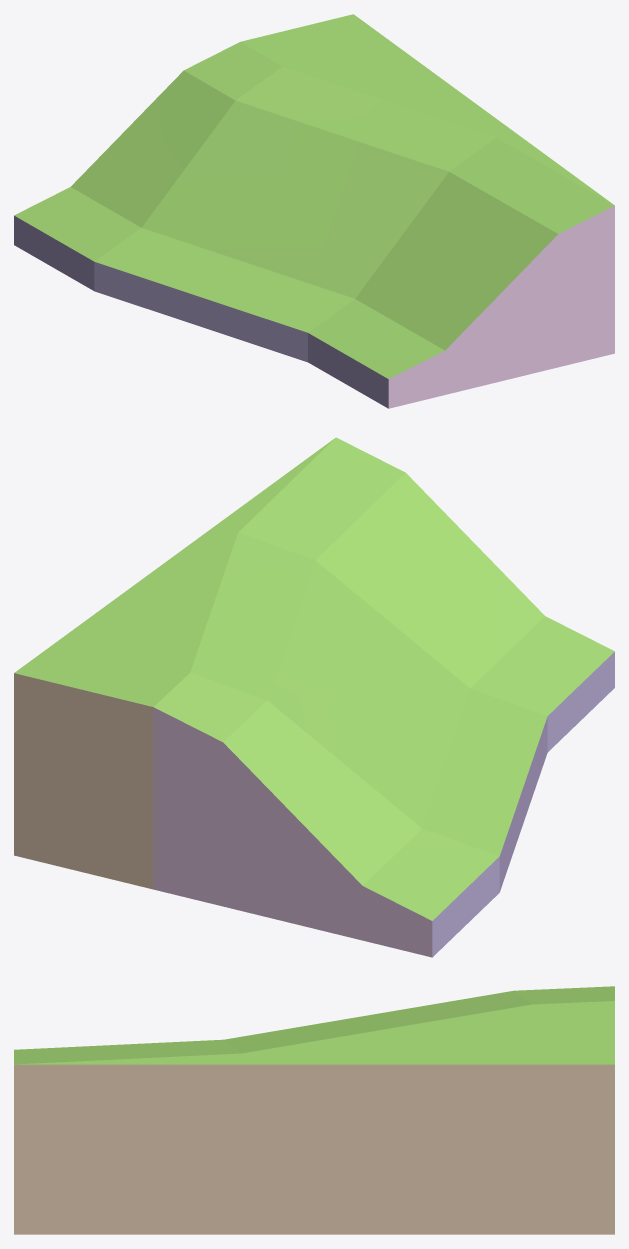
Rendered from Grass_Hill_Sharp_Esse_4x3.glb.
3 renders of one model, top to bottom at view 1: azimuth 30°, elevation 25°; view 2: azimuth 150°, elevation 25°; view 3: azimuth 270°, elevation 25°, orthographic. The views are drawn at different scales.
Parts seen in each view (by area): view 1: Grass_Hill_Sharp_Esse_4x3; view 2: Grass_Hill_Sharp_Esse_4x3; view 3: Grass_Hill_Sharp_Esse_4x3.
Boxes of the visible parts, x1=… form: Grass_Hill_Sharp_Esse_4x3: x1=14, y1=14, x2=614, y2=408; Grass_Hill_Sharp_Esse_4x3: x1=14, y1=437, x2=614, y2=957; Grass_Hill_Sharp_Esse_4x3: x1=14, y1=986, x2=614, y2=1234.
Size of the model in its own units: 300 by 125 by 400.
